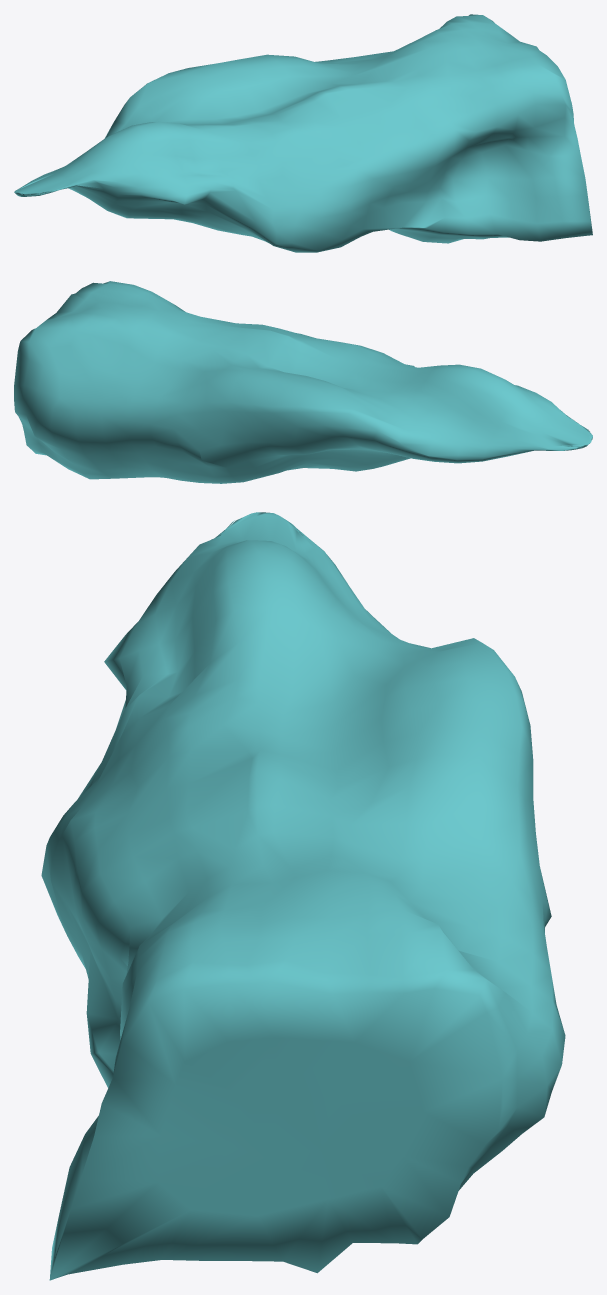
The model's file is Area2.Cliff1.fbx.
3 renders of one model, top to bottom at view 1: azimuth 30°, elevation 25°; view 2: azimuth 150°, elevation 25°; view 3: azimuth 270°, elevation 25°, orthographic. The views are drawn at different scales.
Parts seen in each view (by area): view 1: Plane; view 2: Plane; view 3: Plane.
Part boxes in pixels (x1,y1,x2,y2): Plane: (14,14,592,252); Plane: (14,281,592,483); Plane: (41,512,565,1280).
Bounding box in the file's own units: 2245 × 712 × 975.
